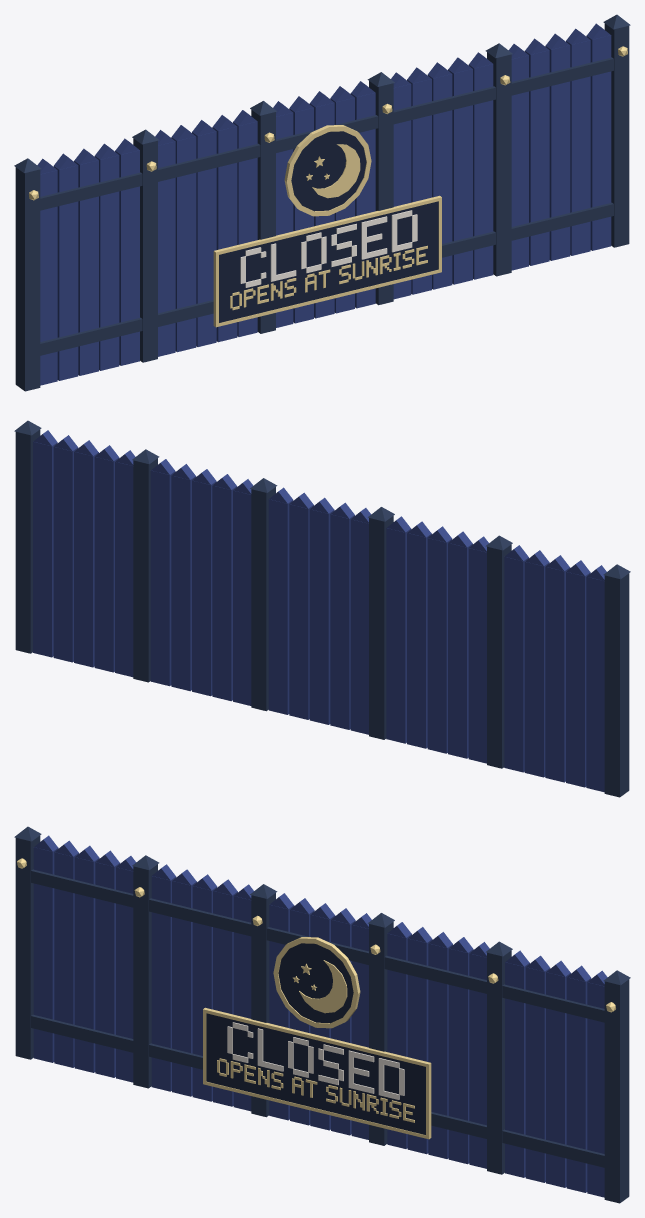
File: CatCafe_Castle_NightFence.glb
The picture shows the model from 3 angles, top to bottom: view 1: azimuth 30°, elevation 25°; view 2: azimuth 150°, elevation 25°; view 3: azimuth 330°, elevation 25°; orthographic projection.
Parts seen in each view (by area): view 1: CatCafe_Castle_NightFence, CatCafe_Castle_NightFence_Moon_Bulb; view 2: CatCafe_Castle_NightFence; view 3: CatCafe_Castle_NightFence, CatCafe_Castle_NightFence_Moon_Bulb.
Boxes of the visible parts, x1=… form: CatCafe_Castle_NightFence: x1=14, y1=14, x2=630, y2=391; CatCafe_Castle_NightFence_Moon_Bulb: x1=29, y1=46, x2=627, y2=327; CatCafe_Castle_NightFence: x1=14, y1=420, x2=630, y2=797; CatCafe_Castle_NightFence: x1=14, y1=826, x2=630, y2=1203; CatCafe_Castle_NightFence_Moon_Bulb: x1=17, y1=858, x2=615, y2=1139.
Size of the model in its own units: 24.06 by 8.64 by 0.9251.
Materials: 1 (1 with a texture image).
